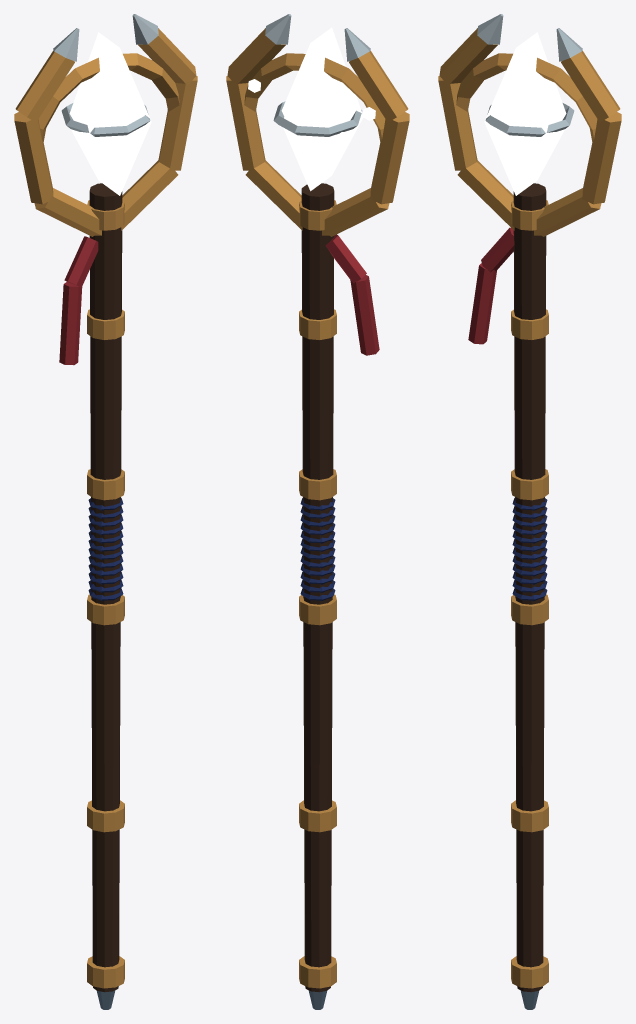
The model's file is astrolabe_staff.glb.
3 renders of one model, left to right at view 1: azimuth 30°, elevation 25°; view 2: azimuth 150°, elevation 25°; view 3: azimuth 330°, elevation 25°, orthographic.
Parts seen in each view (by area): view 1: Astrolabe_Staff_Static; view 2: Astrolabe_Staff_Static; view 3: Astrolabe_Staff_Static.
Boxes of the visible parts, x1,y1,x2,y2 form: Astrolabe_Staff_Static: (14, 14, 197, 1009); Astrolabe_Staff_Static: (226, 14, 409, 1009); Astrolabe_Staff_Static: (438, 14, 621, 1009).
Bounding box in the file's own units: 0.4907 × 2.53 × 0.214.
